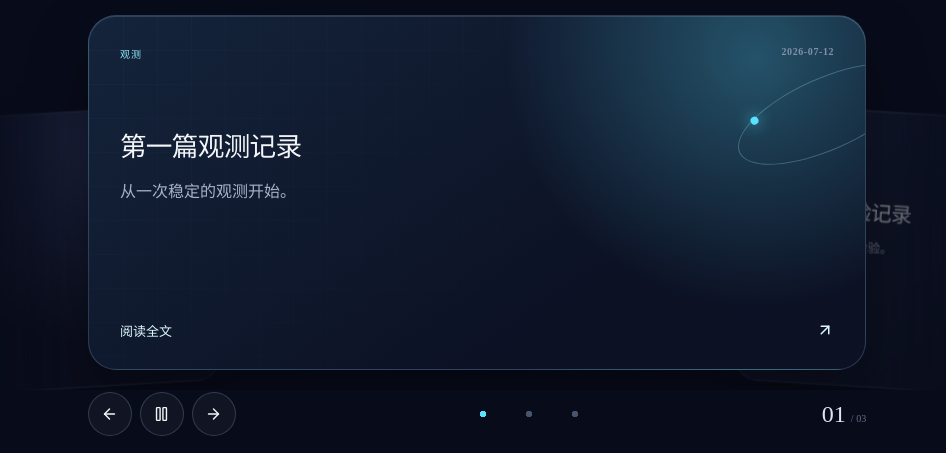
PostCarousel › renders article titles and links from the supplied Markdown data
This screenshot has width=946, height=453.
expect the heading "第一篇观测记录" is shown: met, box 120,128 -> 302,164
Click the button named "查看第 3 篇：第三篇分享记录" at (575,414), box 553,392 -> 597,436
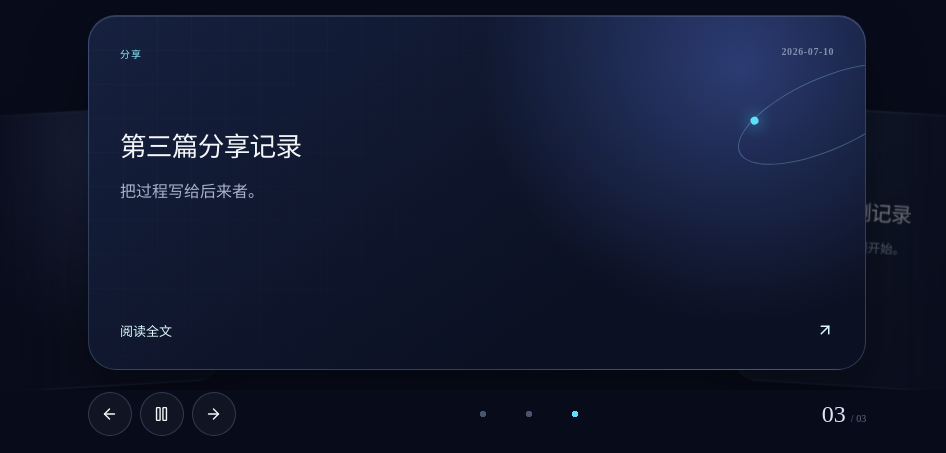
expect the heading "第三篇分享记录" is shown: met, box 120,128 -> 302,164
